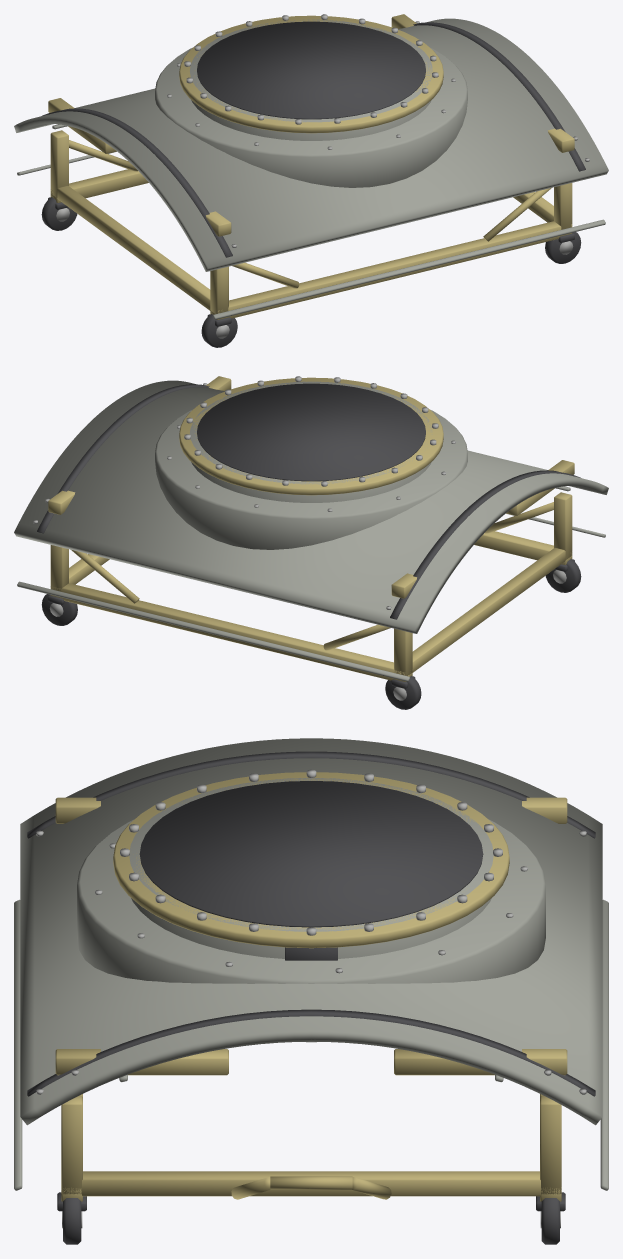
Rendered from stand_turret.glb.
3 renders of one model, top to bottom at view 1: azimuth 30°, elevation 25°; view 2: azimuth 150°, elevation 25°; view 3: azimuth 270°, elevation 25°, orthographic. The views are drawn at different scales.
Visible parts, largest first — view 1: stand_turret; view 2: stand_turret; view 3: stand_turret.
Part boxes in pixels (bbox=[...]): stand_turret: bbox=[14, 14, 608, 347]; stand_turret: bbox=[14, 376, 608, 709]; stand_turret: bbox=[14, 738, 608, 1244].
Size of the model in its own units: 4.36 by 1.78 by 3.6.
